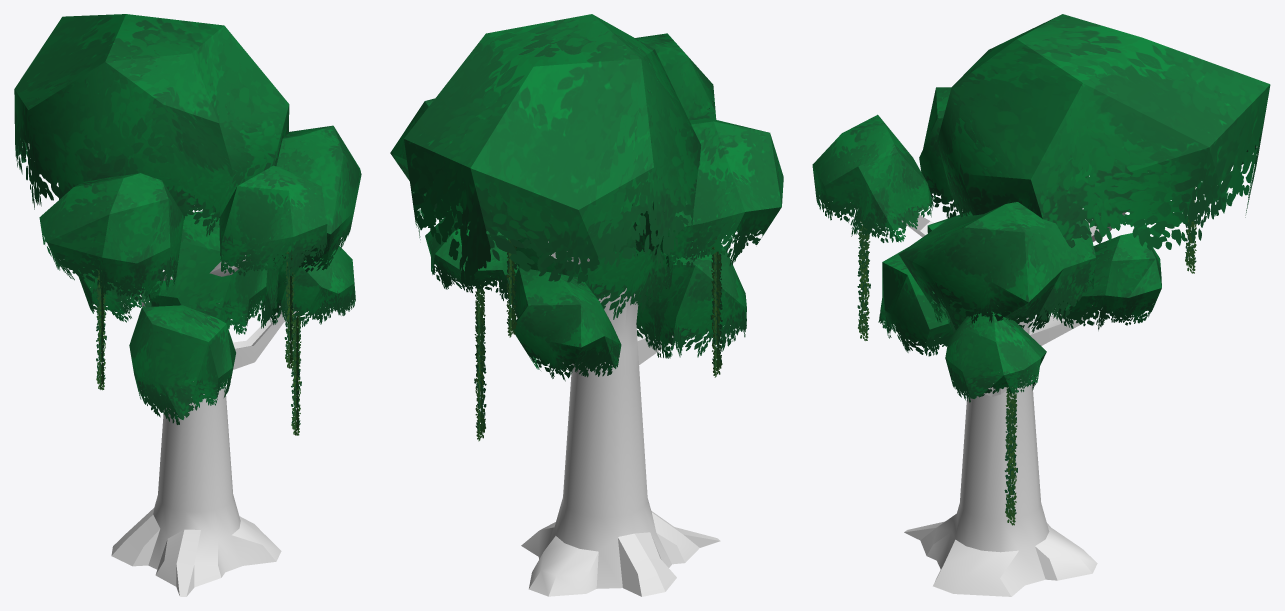
The model's file is Pohon 2.fbx.
3 views of the same model, side by side, from view 1: azimuth 30°, elevation 25°; view 2: azimuth 150°, elevation 25°; view 3: azimuth 270°, elevation 25° (orthographic). The views are drawn at different scales.
Visible parts, largest first — view 1: Cylinder.001; view 2: Cylinder.001; view 3: Cylinder.001.
Boxes of the visible parts, bbox=[...] form: Cylinder.001: bbox=[14, 14, 361, 596]; Cylinder.001: bbox=[390, 14, 783, 596]; Cylinder.001: bbox=[812, 14, 1270, 596].
Size of the model in its own units: 1274 by 1805 by 1431.
